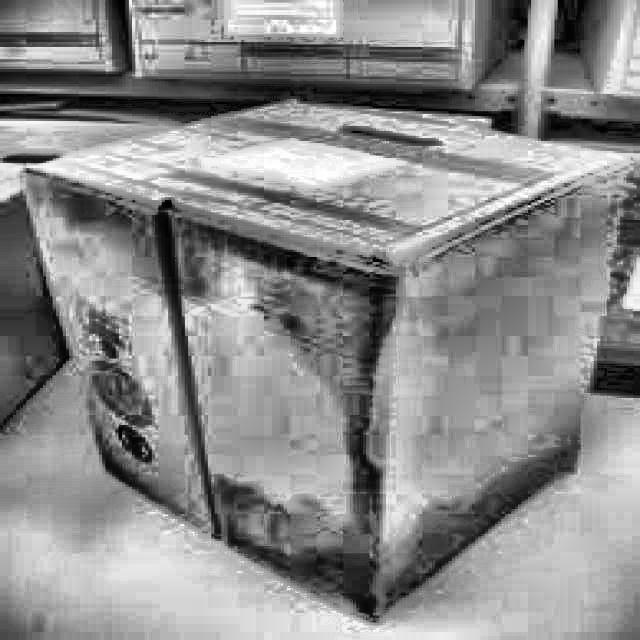box: (20, 85, 639, 635)
wet: (192, 440, 579, 620), (193, 218, 411, 470)
